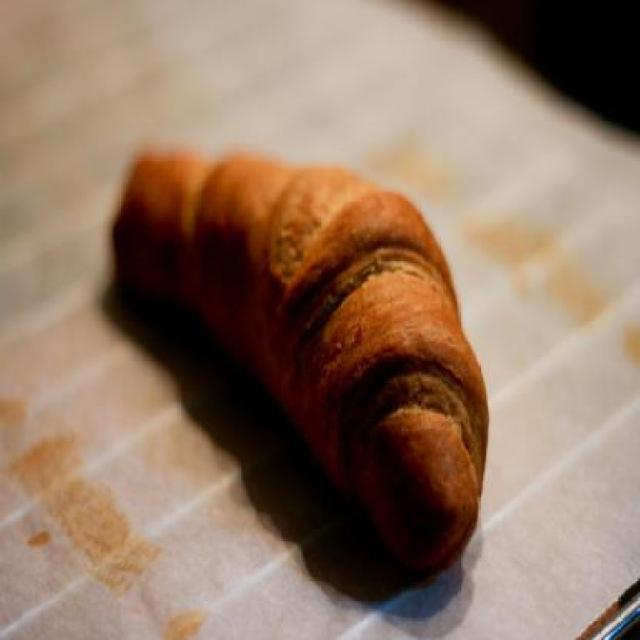Croissant: (112, 193, 482, 584)
